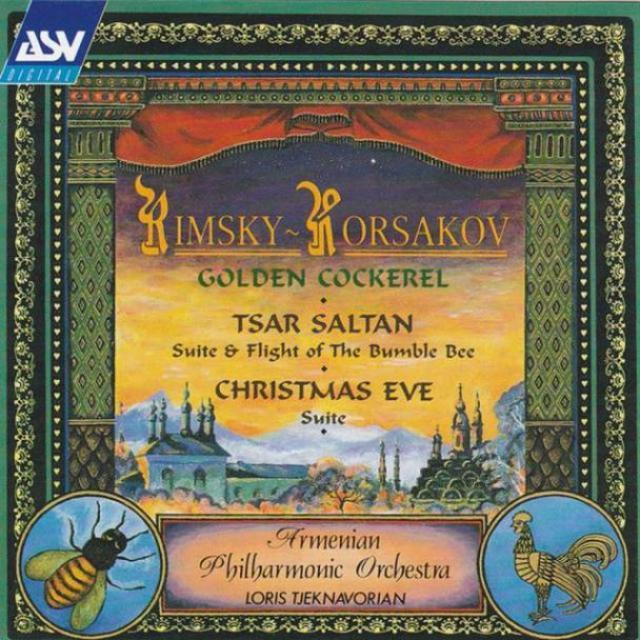Chicken: (508, 495, 620, 624)
